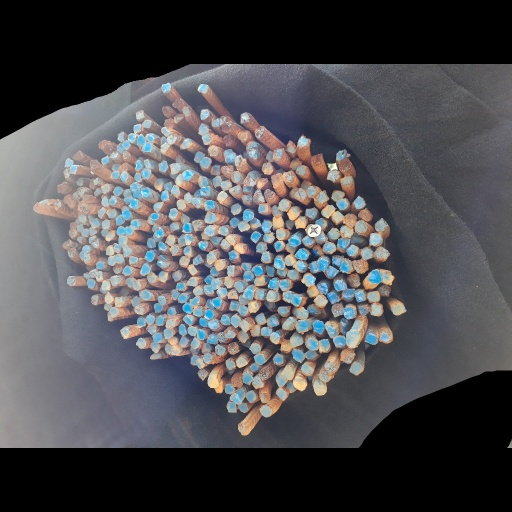dipstick: (324, 320, 339, 338), (352, 258, 370, 273), (340, 349, 356, 365), (373, 246, 390, 261), (346, 331, 360, 349), (339, 257, 354, 273), (349, 361, 364, 376), (367, 269, 382, 284), (358, 208, 374, 222), (369, 302, 384, 316), (380, 270, 394, 285), (293, 378, 308, 392), (281, 316, 295, 331), (313, 293, 328, 307), (302, 272, 317, 286), (373, 217, 387, 232), (368, 232, 383, 246), (321, 204, 335, 219), (220, 165, 235, 179), (222, 134, 238, 147), (324, 360, 338, 374), (327, 227, 341, 241), (340, 224, 354, 238), (343, 213, 357, 227), (258, 404, 273, 417), (252, 375, 265, 390), (326, 291, 341, 304), (347, 272, 360, 287), (337, 237, 352, 250), (253, 275, 268, 288), (293, 216, 308, 229), (261, 161, 274, 176), (236, 129, 251, 142), (391, 303, 407, 315), (339, 318, 351, 334), (293, 307, 309, 319), (271, 172, 282, 189), (367, 290, 381, 303), (378, 284, 392, 297), (331, 303, 344, 317), (306, 336, 319, 350), (314, 384, 328, 397), (301, 363, 315, 376), (272, 352, 285, 366), (341, 288, 354, 302), (322, 240, 336, 253), (302, 235, 316, 248), (314, 230, 327, 244), (354, 220, 368, 233), (335, 198, 349, 211), (353, 195, 366, 209), (296, 134, 310, 147), (315, 190, 329, 203), (288, 157, 302, 170), (379, 331, 394, 343), (307, 303, 322, 315), (351, 232, 366, 244), (293, 188, 308, 200), (271, 216, 286, 228), (285, 140, 297, 155), (253, 188, 265, 203), (214, 257, 226, 272), (313, 319, 324, 335), (365, 332, 378, 345), (343, 306, 356, 319), (276, 387, 289, 400), (280, 338, 293, 351), (334, 279, 347, 292), (293, 259, 306, 272), (325, 265, 338, 278), (311, 244, 324, 257), (288, 234, 301, 247), (254, 287, 267, 300), (305, 206, 318, 219), (230, 170, 243, 183), (193, 150, 206, 163), (191, 218, 204, 231), (169, 243, 182, 256), (354, 288, 366, 302), (333, 336, 347, 348), (296, 319, 308, 333), (290, 335, 304, 347), (266, 316, 280, 328), (295, 249, 309, 261), (332, 210, 344, 224), (340, 175, 354, 187), (326, 169, 340, 181), (335, 149, 349, 161), (278, 198, 290, 212), (242, 208, 254, 222), (225, 233, 239, 245), (254, 125, 266, 139), (242, 175, 256, 187), (199, 155, 211, 169), (305, 349, 320, 360), (276, 372, 287, 387), (230, 313, 241, 328), (234, 154, 245, 169), (158, 260, 174, 270), (236, 422, 248, 435), (214, 344, 227, 356), (317, 282, 329, 295), (306, 285, 319, 297), (264, 298, 277, 310), (361, 247, 373, 260), (346, 244, 359, 256), (273, 240, 285, 253), (310, 153, 323, 165), (261, 219, 273, 232), (257, 202, 270, 214), (256, 177, 269, 189), (237, 220, 250, 232), (243, 269, 255, 282), (233, 280, 245, 293), (200, 342, 213, 354), (203, 283, 215, 296), (170, 344, 183, 356), (230, 202, 242, 215), (229, 184, 242, 196), (216, 190, 228, 203), (197, 174, 209, 187), (135, 337, 148, 349), (164, 234, 177, 246), (109, 275, 122, 287), (250, 324, 261, 338), (317, 257, 328, 271), (264, 264, 275, 278), (284, 215, 295, 229), (210, 162, 221, 176), (119, 325, 130, 339), (319, 338, 329, 353), (231, 313, 241, 328), (146, 324, 161, 334), (249, 343, 261, 355), (235, 356, 247, 368), (227, 342, 239, 354), (195, 357, 207, 369), (217, 331, 229, 343), (287, 268, 299, 280), (263, 231, 275, 243), (207, 319, 219, 331), (247, 147, 259, 159), (221, 179, 233, 191), (201, 133, 213, 145), (207, 144, 219, 156), (211, 175, 223, 187), (204, 212, 216, 224), (183, 245, 195, 257), (179, 138, 191, 150), (226, 400, 237, 413), (255, 312, 266, 325), (238, 330, 249, 343), (239, 319, 250, 332), (248, 300, 259, 313), (279, 278, 290, 291), (285, 253, 296, 266), (274, 256, 285, 269), (331, 190, 344, 201), (287, 207, 298, 220), (271, 204, 282, 217), (250, 231, 261, 244), (233, 242, 246, 253), (238, 293, 249, 306), (229, 299, 240, 312), (211, 296, 222, 309), (206, 252, 217, 265), (240, 111, 251, 124), (225, 152, 238, 163), (221, 122, 234, 133), (198, 122, 209, 135), (204, 226, 217, 237), (179, 255, 190, 268), (172, 270, 183, 283), (157, 270, 168, 283), (133, 304, 146, 315), (138, 289, 151, 300), (146, 271, 157, 284), (96, 207, 107, 220), (291, 293, 301, 307), (209, 236, 223, 246), (358, 304, 370, 315), (257, 369, 268, 381), (229, 393, 241, 404), (238, 402, 250, 413), (254, 353, 265, 365), (250, 362, 262, 373), (207, 377, 219, 388), (197, 368, 208, 380), (282, 291, 294, 302), (277, 305, 289, 316), (332, 254, 343, 266), (285, 242, 296, 254), (275, 228, 286, 240), (316, 218, 327, 230), (295, 165, 307, 176), (288, 187, 300, 198), (264, 189, 276, 200), (249, 218, 260, 230), (227, 288, 239, 299), (219, 314, 231, 325), (177, 293, 189, 304), (199, 108, 210, 120), (204, 199, 215, 211), (104, 292, 115, 304), (140, 264, 152, 275), (144, 250, 155, 262), (192, 196, 203, 208), (182, 170, 194, 181), (171, 184, 182, 196), (158, 160, 169, 172), (168, 163, 180, 174), (166, 134, 178, 145), (161, 105, 173, 116), (107, 195, 118, 207), (281, 370, 294, 380), (246, 390, 256, 403), (242, 372, 252, 385), (260, 327, 273, 337), (268, 276, 278, 289), (283, 170, 293, 183), (299, 178, 312, 188), (273, 147, 283, 160), (221, 238, 231, 251), (211, 277, 221, 290), (178, 335, 188, 348), (197, 240, 210, 250), (156, 314, 166, 327), (89, 293, 99, 306), (89, 235, 99, 248), (261, 250, 270, 264), (245, 141, 259, 150), (137, 133, 146, 147), (319, 372, 330, 383), (224, 383, 235, 394), (226, 359, 237, 370), (203, 352, 214, 363), (266, 290, 277, 301), (252, 265, 263, 276), (229, 249, 240, 260), (244, 288, 255, 299), (204, 273, 215, 284), (192, 285, 203, 296), (150, 342, 161, 353), (163, 327, 174, 338), (187, 276, 198, 287), (192, 253, 203, 264), (229, 217, 240, 228), (200, 186, 211, 197), (181, 222, 192, 233), (157, 241, 168, 252), (114, 253, 125, 264), (160, 142, 171, 153), (121, 209, 132, 220), (115, 214, 126, 225), (106, 208, 117, 219), (89, 218, 100, 229), (269, 332, 279, 344), (238, 304, 248, 316), (276, 267, 288, 277), (256, 242, 268, 252), (204, 308, 214, 320), (216, 287, 228, 297), (224, 275, 234, 287), (193, 306, 205, 316), (182, 302, 192, 314), (165, 318, 177, 328), (187, 263, 197, 275), (218, 225, 230, 235), (265, 149, 275, 161), (197, 83, 209, 93), (146, 313, 156, 325), (154, 227, 164, 239), (122, 244, 132, 256), (174, 173, 184, 185), (163, 118, 175, 128), (119, 170, 129, 182), (103, 144, 115, 154), (72, 150, 84, 160), (177, 233, 186, 246), (327, 162, 340, 171), (231, 377, 242, 387), (207, 334, 218, 344), (196, 329, 206, 340), (198, 316, 208, 327), (190, 295, 201, 305), (187, 325, 198, 335), (211, 117, 222, 127), (154, 302, 164, 313), (136, 316, 146, 327), (109, 306, 119, 317), (131, 280, 142, 290), (146, 238, 156, 249), (169, 221, 180, 231), (112, 242, 122, 253), (153, 201, 163, 212), (161, 82, 171, 93), (172, 97, 183, 107), (142, 142, 153, 152), (129, 198, 140, 208), (123, 187, 133, 198), (113, 186, 123, 197), (98, 139, 109, 149), (60, 239, 71, 249), (100, 183, 110, 194), (68, 228, 79, 238), (62, 168, 72, 179), (56, 183, 67, 193), (32, 202, 43, 212), (210, 265, 219, 277), (178, 323, 187, 335), (170, 288, 179, 300), (130, 295, 139, 307), (125, 276, 134, 288), (161, 190, 170, 202), (154, 178, 163, 190), (135, 109, 144, 121), (81, 245, 93, 254), (53, 198, 61, 211), (156, 254, 173, 260), (306, 186, 316, 196), (152, 332, 162, 342), (101, 280, 111, 290), (106, 246, 116, 256), (180, 213, 190, 223), (176, 199, 186, 209), (142, 119, 152, 129), (79, 205, 89, 215), (69, 165, 79, 175), (214, 382, 223, 393), (190, 354, 199, 365), (191, 337, 200, 348), (183, 314, 192, 325), (167, 306, 178, 315), (241, 193, 252, 202), (158, 294, 167, 305), (105, 311, 114, 322), (129, 255, 138, 266), (87, 278, 96, 289), (169, 207, 178, 218), (183, 192, 192, 203), (160, 127, 171, 136), (181, 105, 190, 116), (145, 133, 156, 142), (119, 162, 128, 173), (142, 158, 151, 169), (142, 167, 151, 178), (110, 171, 121, 180), (106, 229, 115, 240), (67, 247, 76, 258), (76, 235, 87, 244), (90, 159, 99, 170), (94, 176, 105, 185), (92, 186, 101, 197), (130, 182, 142, 190), (100, 196, 108, 208), (150, 352, 163, 359), (242, 185, 255, 192), (241, 261, 251, 270), (175, 281, 184, 291), (223, 148, 233, 157), (219, 114, 228, 124), (200, 230, 209, 240), (103, 301, 113, 310), (123, 265, 132, 275), (119, 287, 129, 296), (67, 276, 76, 286), (88, 269, 98, 278), (107, 255, 116, 265), (130, 220, 139, 230), (193, 188, 203, 197), (141, 187, 150, 197), (175, 155, 185, 164), (132, 189, 141, 199), (111, 162, 121, 171), (110, 150, 119, 160), (62, 194, 72, 203), (152, 222, 161, 232), (224, 330, 235, 338), (184, 233, 192, 244), (174, 113, 185, 121), (134, 159, 142, 170), (76, 176, 84, 187), (163, 181, 172, 190), (133, 124, 142, 133), (122, 140, 131, 149), (134, 173, 143, 182), (101, 220, 110, 229), (77, 214, 86, 223), (89, 178, 98, 187), (168, 337, 178, 345), (114, 297, 122, 307), (94, 261, 104, 269), (118, 235, 126, 245), (125, 225, 133, 235), (128, 133, 136, 143), (116, 142, 124, 152), (122, 150, 130, 160), (83, 254, 91, 264), (76, 223, 84, 233), (77, 186, 85, 196), (227, 265, 234, 276), (83, 272, 92, 280), (151, 212, 160, 220), (160, 136, 168, 145), (101, 155, 109, 164), (89, 227, 98, 235), (64, 158, 73, 166), (206, 297, 213, 307), (164, 343, 171, 353), (100, 228, 108, 236), (69, 221, 77, 229), (117, 132, 124, 141), (81, 228, 88, 237), (74, 217, 83, 224), (71, 192, 80, 199), (124, 197, 132, 204), (79, 250, 84, 261)
